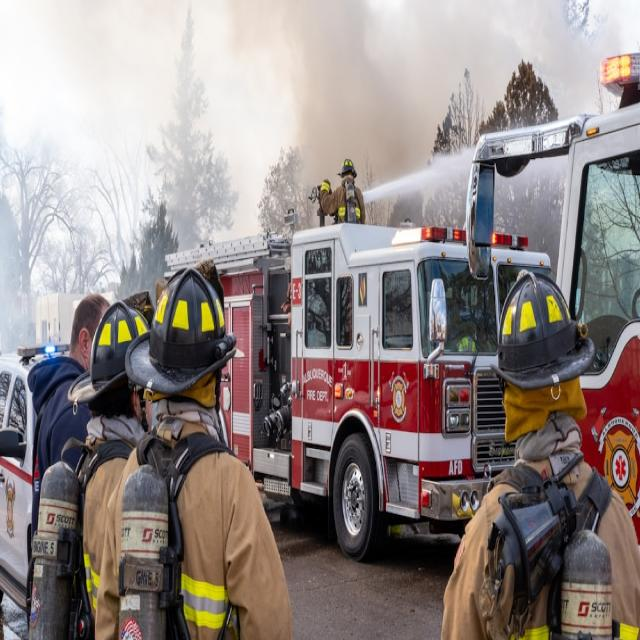emergency: (166, 209, 550, 558)
